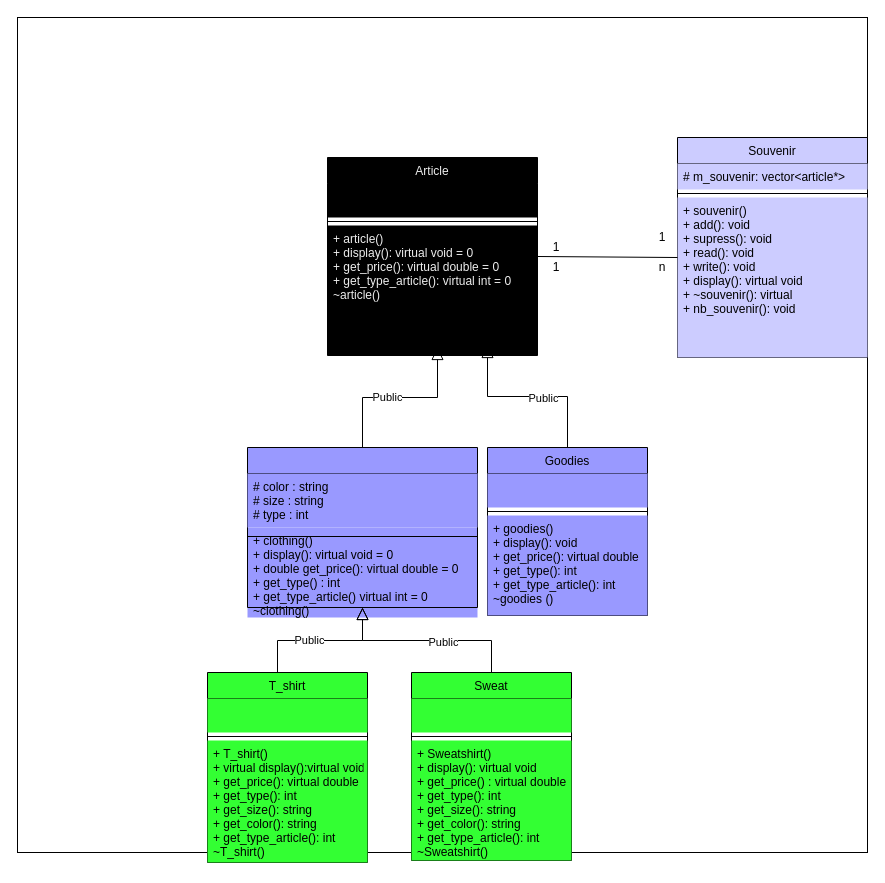
This 885x883 diagram has some shape labels left out. Here are the shapes that lost their labels. From the top down, the box of each, then its label:
(327, 183, 537, 217): # price : double #type_article : int
(487, 473, 647, 507): # type : int # type_artilce=3 : int
(246, 446, 478, 608): Clothing
(207, 698, 367, 732): # type : int # type_artilce=1 : int
(411, 698, 571, 732): # type : int # type_artilce=2 : int
